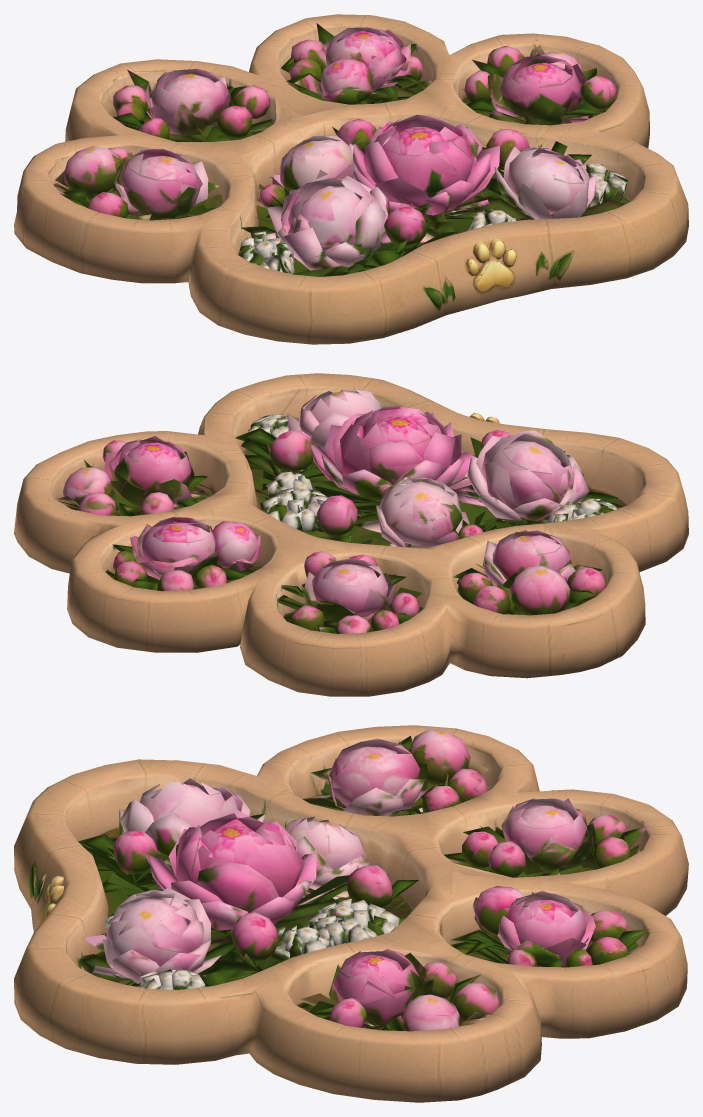
Rendered from Meshy_AI_Pawprint_Peony_Garden_1114011621_texture.glb.
3 views of the same model, one above another, from view 1: azimuth 30°, elevation 25°; view 2: azimuth 150°, elevation 25°; view 3: azimuth 270°, elevation 25° (orthographic). The views are drawn at different scales.
Bounding box in the file's own units: 0.9556 × 0.1631 × 0.8291.
Materials: 1 (1 with a texture image).
